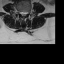CCS_normal: (22, 9, 24, 18)
LFS_normal: (26, 8, 29, 16)
LLS_normal: (24, 9, 26, 17)
RFS_normal: (18, 9, 20, 15)
RLS_normal: (20, 9, 22, 16)
